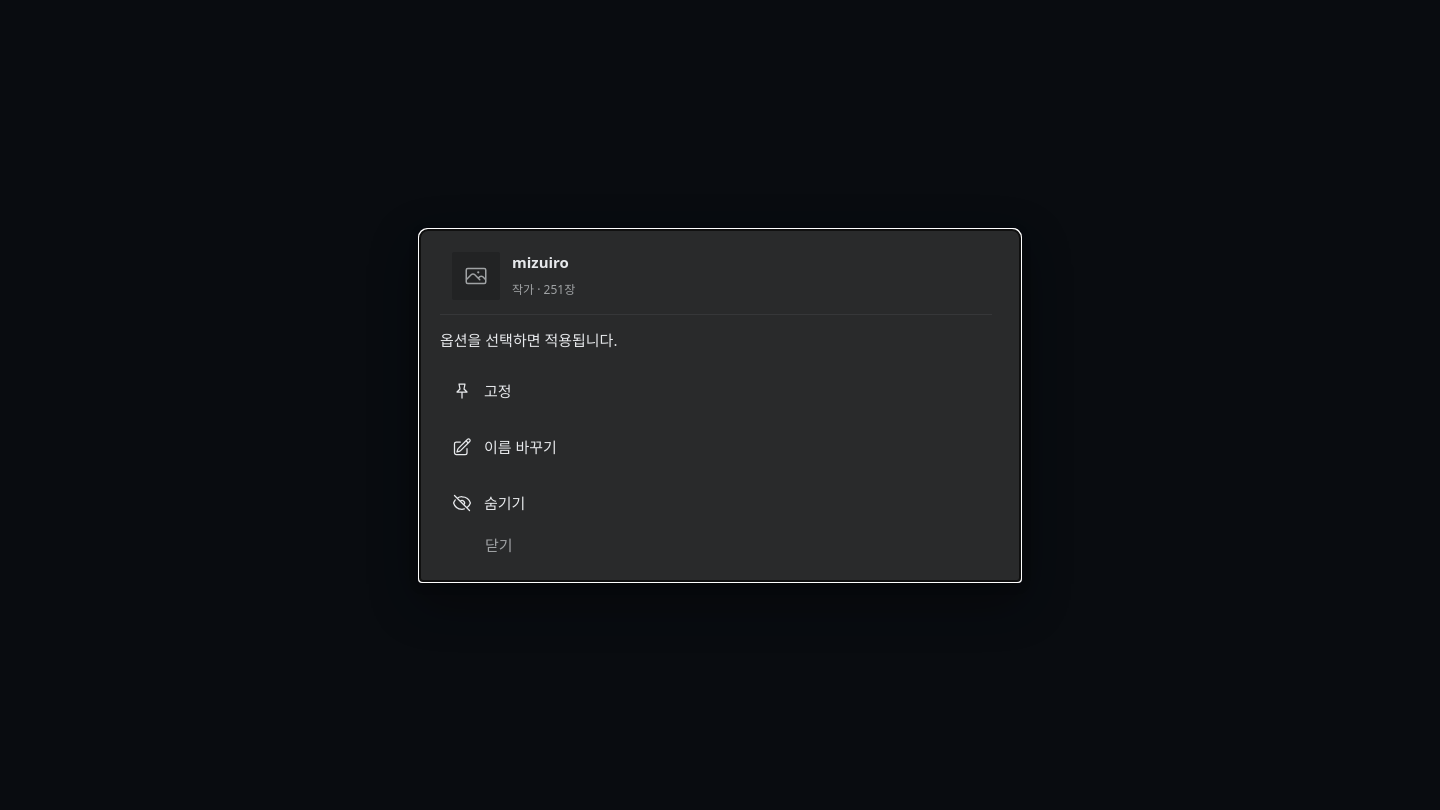
keeps the artist sheet open and says why when an edit cannot be queued
The width and height of the screenshot is (1440, 810).
Click the button "숨기기" at coordinates (505, 502), box [440,476,992,528]
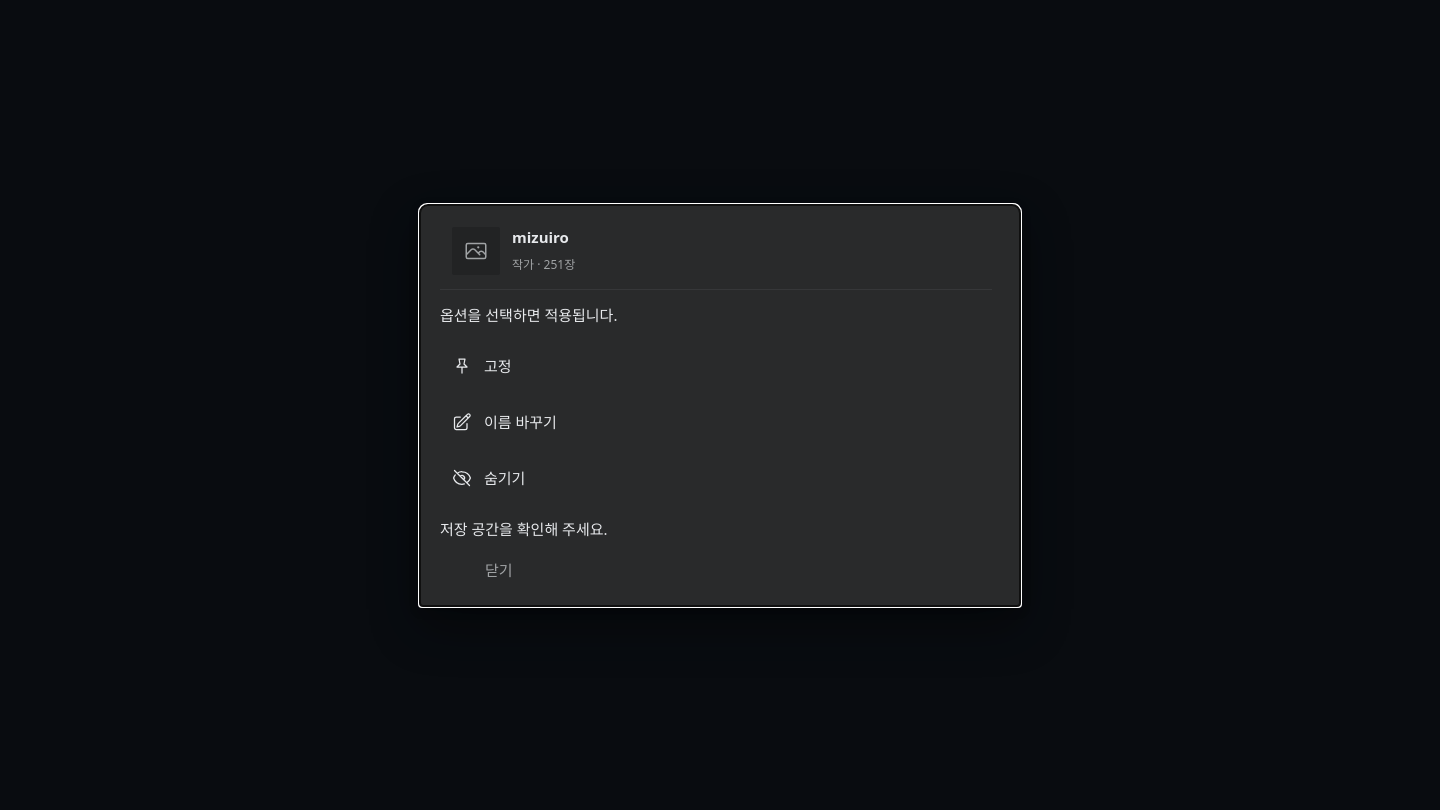
Check: the message reads "저장 공간을 확인해 주세요.", box [440,518,608,538]
